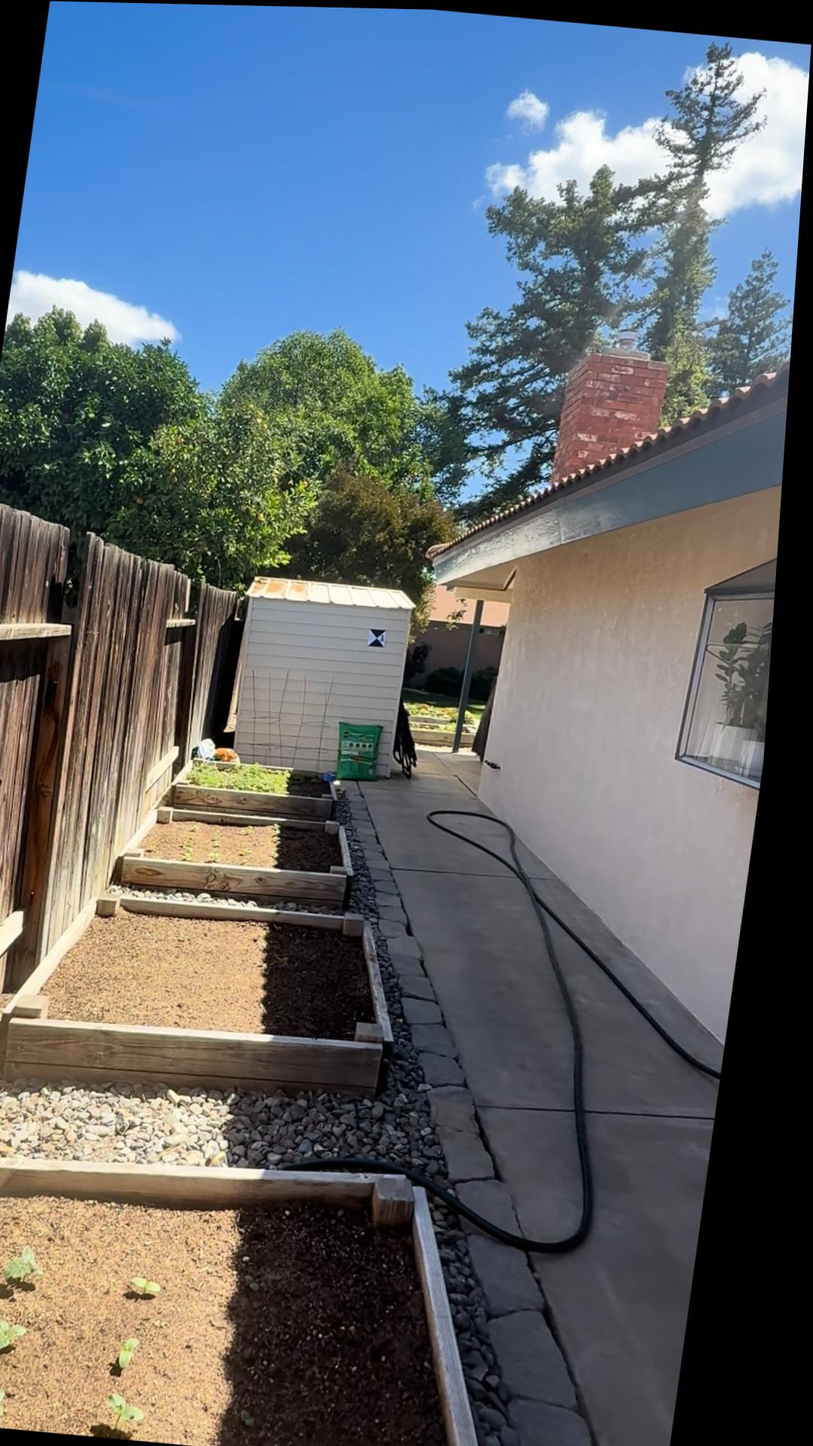target1: (366, 627, 389, 650)
